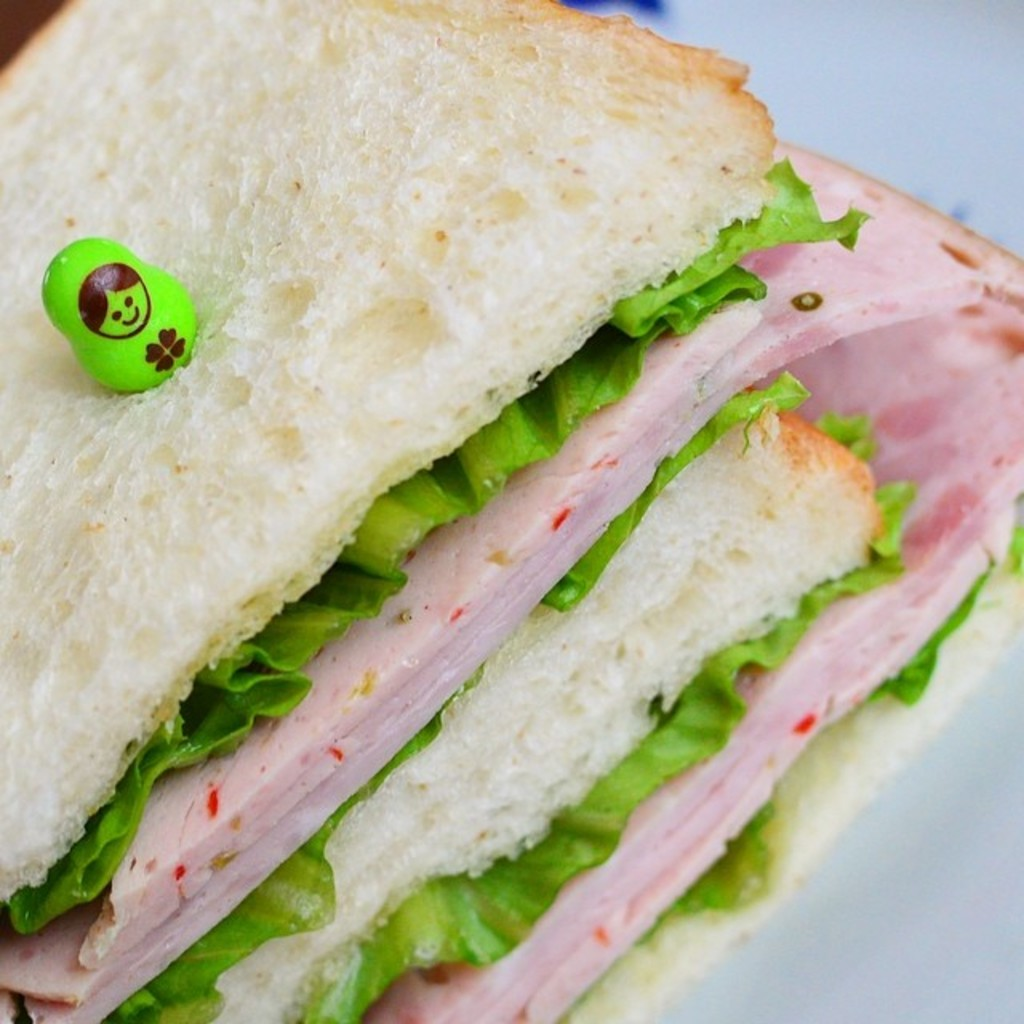sandwich: (0, 8, 1022, 1022)
